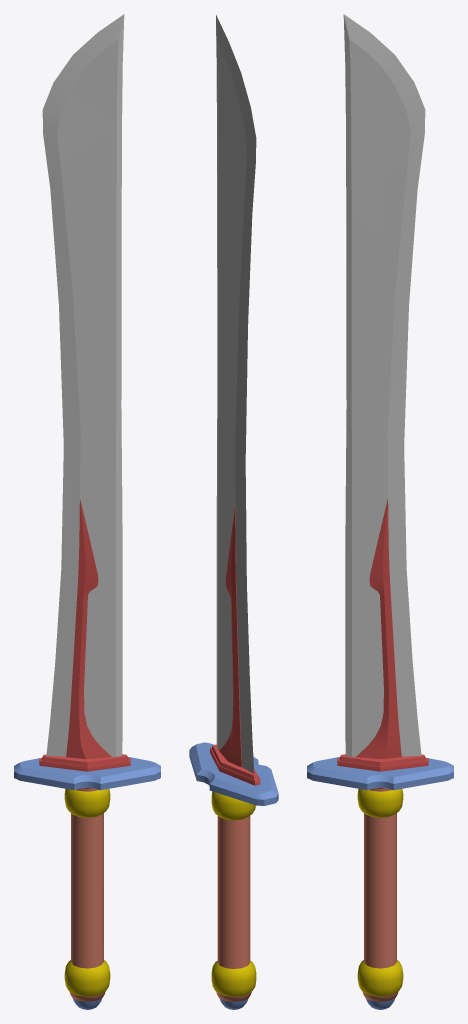
File: Sword1 Rust MultiMaterial.fbx
The picture shows the model from 3 angles, left to right: view 1: azimuth 90°, elevation 25°; view 2: azimuth 210°, elevation 25°; view 3: azimuth 270°, elevation 25°; orthographic projection.
Parts seen in each view (by area): view 1: Sword1 Rust MultiMaterial; view 2: Sword1 Rust MultiMaterial; view 3: Sword1 Rust MultiMaterial.
Boxes of the visible parts, x1=… form: Sword1 Rust MultiMaterial: x1=14, y1=14, x2=160, y2=1009; Sword1 Rust MultiMaterial: x1=189, y1=15, x2=278, y2=1009; Sword1 Rust MultiMaterial: x1=307, y1=14, x2=453, y2=1009.
Size of the model in its own units: 52.48 by 799 by 107.
